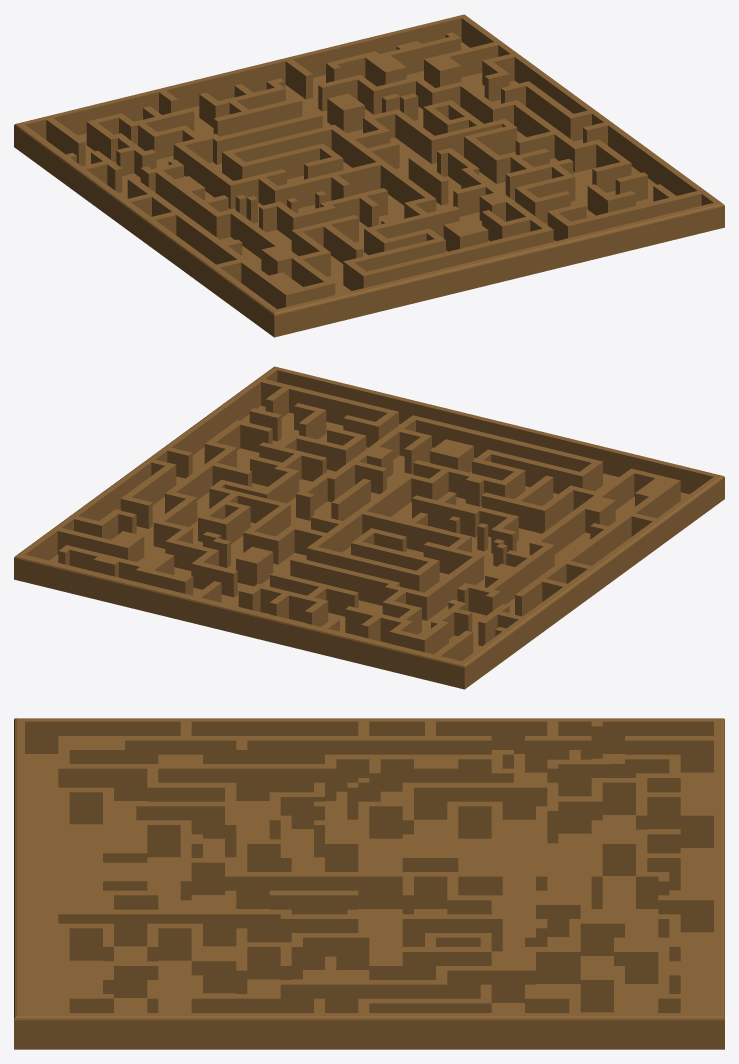
The model's file is labyrinth.glb.
3 views of the same model, one above another, from view 1: azimuth 30°, elevation 25°; view 2: azimuth 150°, elevation 25°; view 3: azimuth 270°, elevation 25° (orthographic). The views are drawn at different scales.
Parts seen in each view (by area): view 1: Plane; view 2: Plane; view 3: Plane.
Boxes of the visible parts, x1,y1,x2,y2 form: Plane: (14, 14, 724, 337); Plane: (14, 366, 724, 689); Plane: (14, 718, 724, 1049).
Bounding box in the file's own units: 20 × 1.03 × 20.
